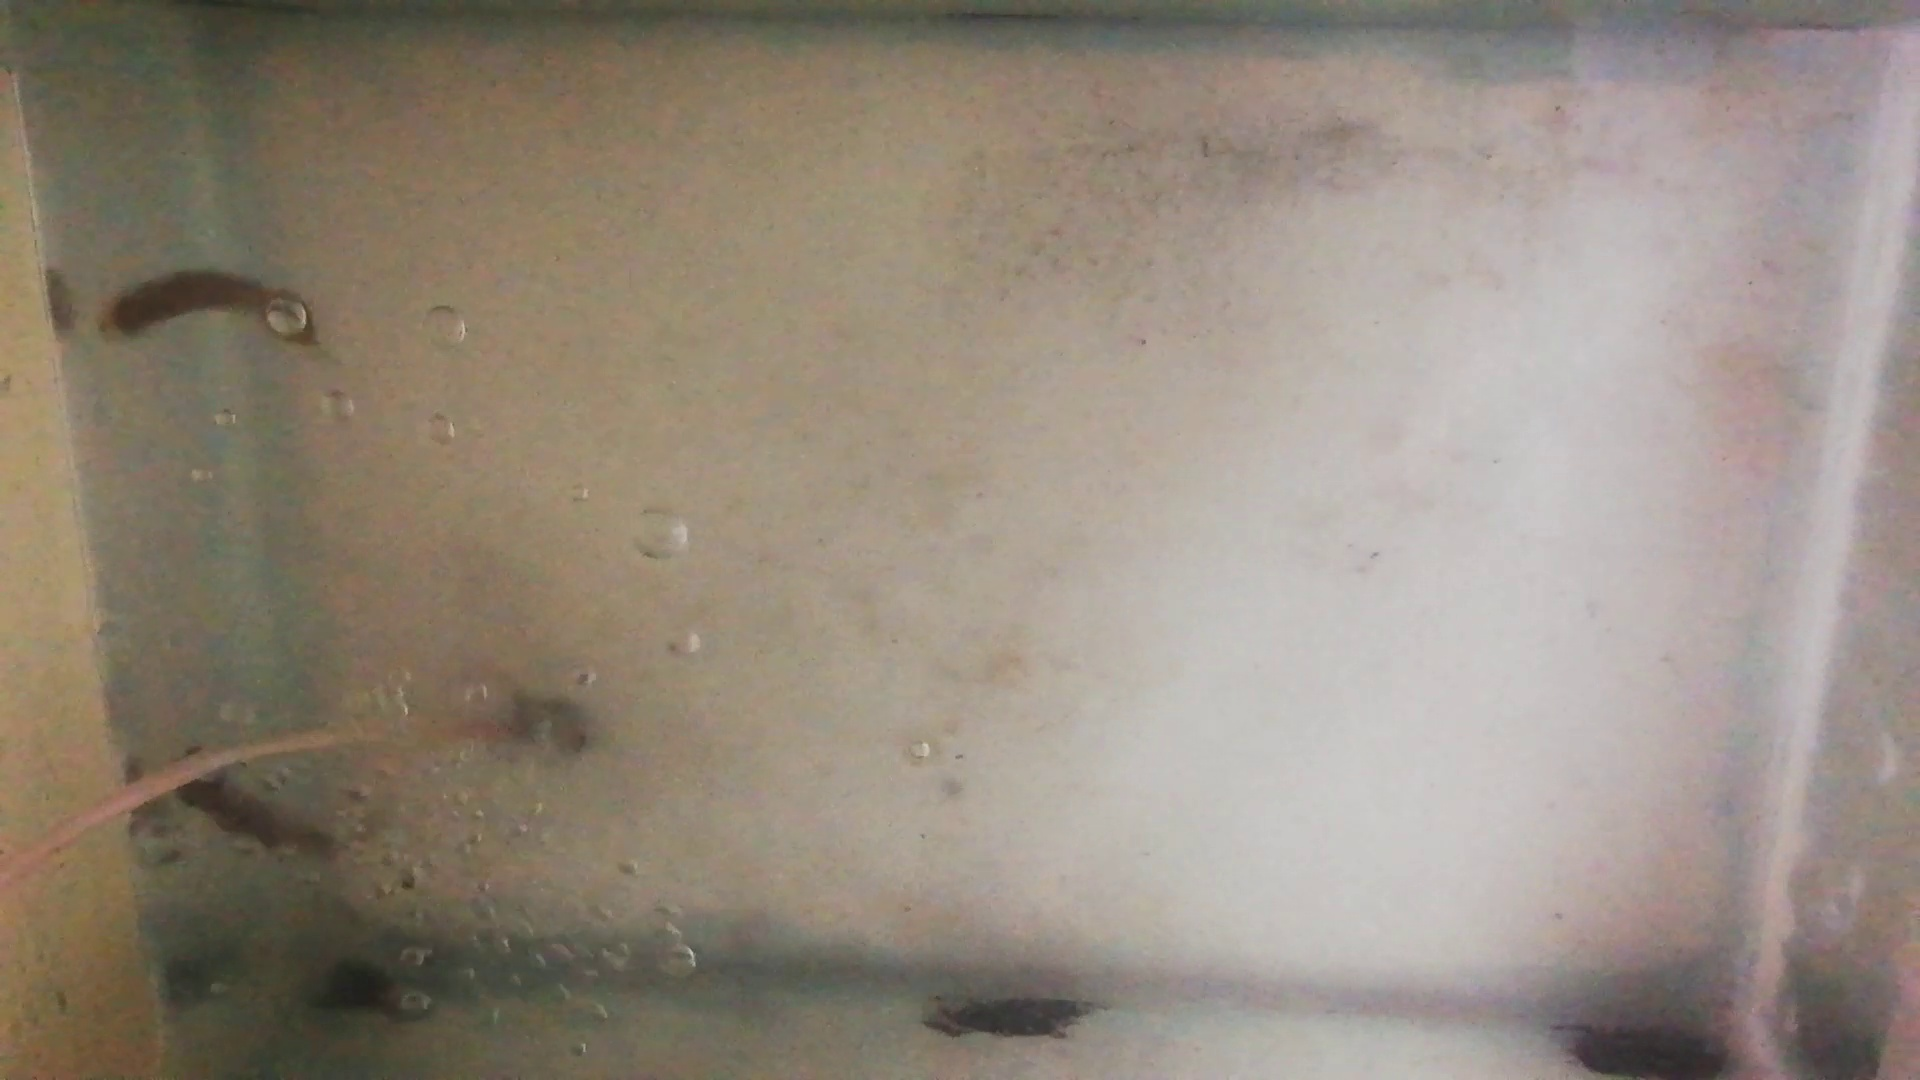fish: (173, 752, 336, 857), (98, 270, 316, 348)
